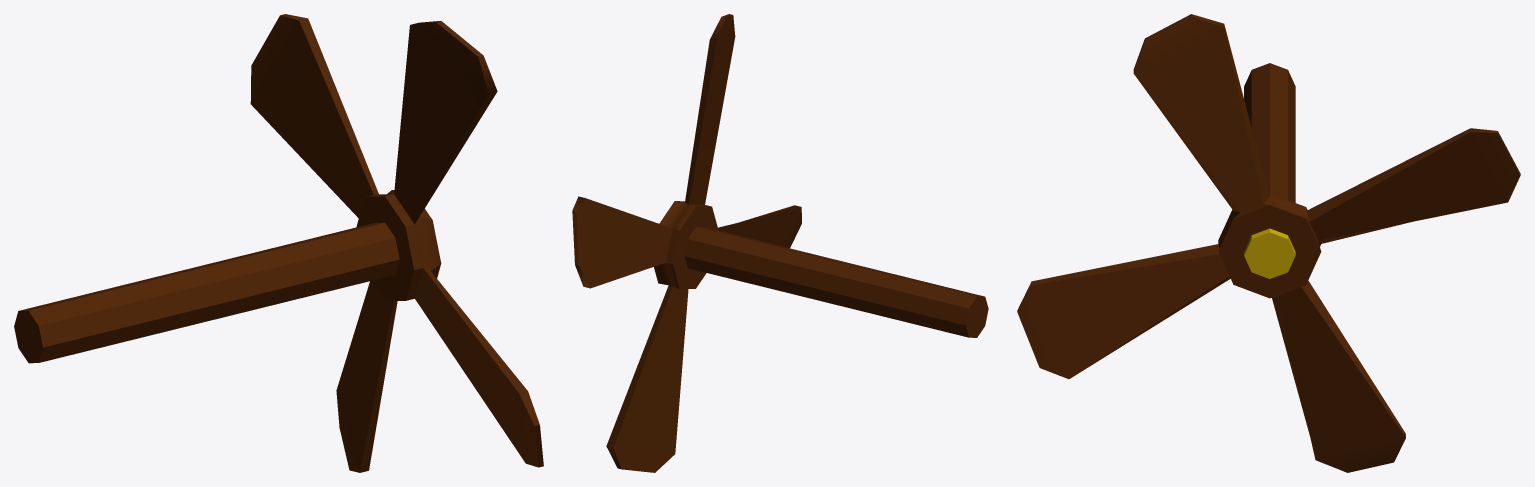
File: Rotor.fbx
3 views of the same model, side by side, from view 1: azimuth 30°, elevation 25°; view 2: azimuth 150°, elevation 25°; view 3: azimuth 270°, elevation 25° (orthographic). The views are drawn at different scales.
Parts seen in each view (by area): view 1: pCylinder1; view 2: pCylinder1; view 3: pCylinder1.
Part boxes in pixels (box(x1,y1,x2,y2)): pCylinder1: box(14, 14, 543, 472); pCylinder1: box(572, 14, 988, 472); pCylinder1: box(1017, 14, 1520, 472).
Bounding box in the file's own units: 7.85 × 9.77 × 9.77.
